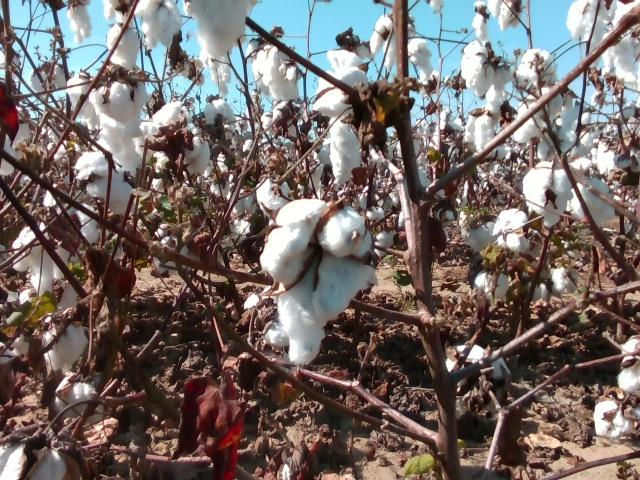cotton_ready: (259, 197, 377, 364), (314, 50, 371, 185), (565, 0, 640, 85), (90, 80, 148, 175), (11, 220, 72, 296), (371, 16, 436, 78), (186, 0, 255, 58), (75, 151, 132, 219), (138, 101, 199, 158), (523, 164, 576, 228), (0, 441, 83, 480), (538, 105, 595, 160), (460, 41, 512, 100), (598, 105, 640, 176), (41, 313, 89, 374), (463, 96, 510, 158), (251, 45, 302, 100), (513, 87, 564, 141), (564, 176, 617, 225), (0, 102, 35, 176), (135, 0, 186, 49), (445, 344, 511, 381), (53, 377, 107, 420), (524, 264, 578, 303), (471, 0, 521, 38), (514, 48, 558, 91), (460, 207, 498, 256), (592, 399, 640, 437), (495, 208, 533, 252), (107, 25, 141, 69), (203, 100, 238, 141), (66, 74, 97, 117), (180, 134, 210, 178), (255, 176, 295, 209), (475, 272, 512, 304), (619, 337, 640, 391)
